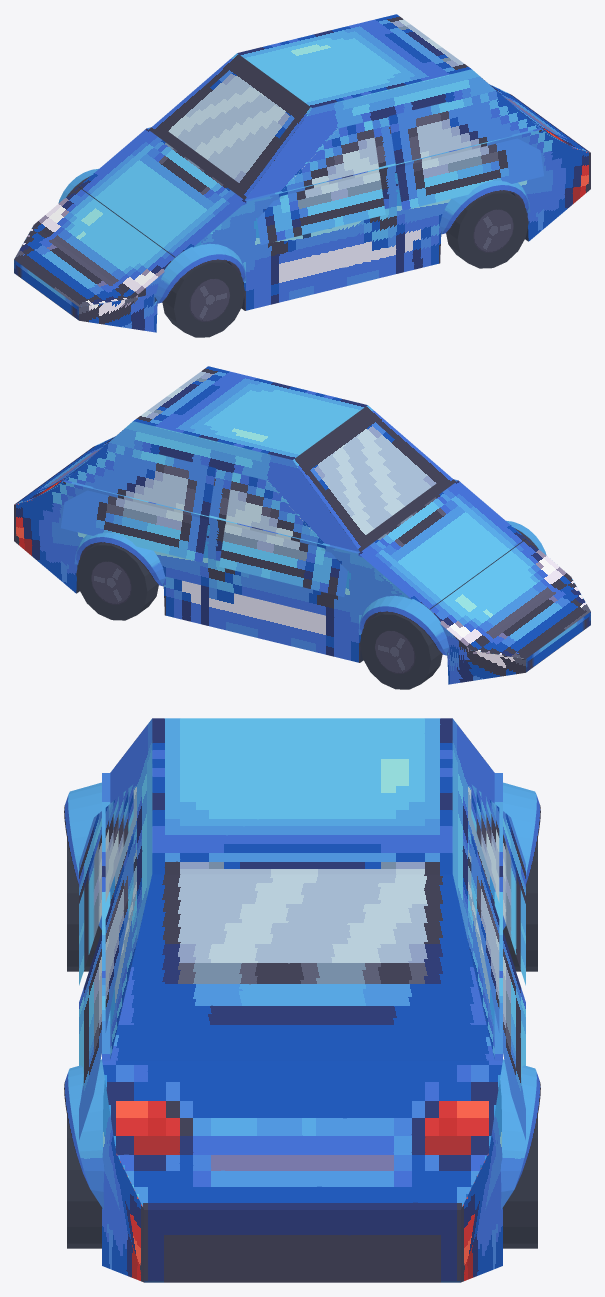
The model's file is compact-1-v7.glb.
3 renders of one model, top to bottom at view 1: azimuth 30°, elevation 25°; view 2: azimuth 150°, elevation 25°; view 3: azimuth 270°, elevation 25°, orthographic. The views are drawn at different scales.
Visible parts, largest first — view 1: Body · left, Hood, Windshield, Roof, Window and frame · left · rear, Cabin · left, Window and frame · left · front, Tire · -17 · -1, Tire · 17 · -1, Raised fender · left · -17, Raised fender · left · 17, Hub · 17 · -1 (+4 smaller); view 2: Body · right, Hood, Windshield, Roof, Window and frame · right · rear, Cabin · right, Window and frame · right · front, Tire · -17 · 1, Tire · 17 · 1, Raised fender · right · -17, Raised fender · right · 17, Hub · 17 · 1 (+4 smaller); view 3: Rear windshield, Rear hatch, Roof, Rear fascia, Cabin · left, Cabin · right, Window and frame · left · rear, Window and frame · right · rear, Body · left, Body · right, Window and frame · left · front, Window and frame · right · front (+9 smaller).
Part boxes in pixels (left/top/right/bottom): Body · left: left=79, top=129, right=590, bottom=332; Hood: left=14, top=128, right=246, bottom=306; Windshield: left=149, top=53, right=311, bottom=199; Roof: left=237, top=14, right=471, bottom=107; Window and frame · left · rear: left=389, top=102, right=543, bottom=210; Cabin · left: left=245, top=69, right=539, bottom=199; Window and frame · left · front: left=257, top=120, right=385, bottom=244; Tire · -17 · -1: left=162, top=260, right=244, bottom=337; Tire · 17 · -1: left=446, top=191, right=528, bottom=268; Raised fender · left · -17: left=153, top=243, right=246, bottom=304; Raised fender · left · 17: left=439, top=180, right=530, bottom=234; Hub · 17 · -1: left=473, top=209, right=513, bottom=252; Body · right: left=14, top=481, right=525, bottom=684; Hood: left=358, top=480, right=590, bottom=658; Windshield: left=293, top=405, right=455, bottom=551; Roof: left=133, top=366, right=367, bottom=459; Window and frame · right · rear: left=61, top=454, right=215, bottom=562; Cabin · right: left=65, top=421, right=359, bottom=551; Window and frame · right · front: left=219, top=472, right=347, bottom=596; Tire · -17 · 1: left=360, top=612, right=442, bottom=689; Tire · 17 · 1: left=76, top=543, right=158, bottom=620; Raised fender · right · -17: left=358, top=595, right=449, bottom=655; Raised fender · right · 17: left=74, top=532, right=165, bottom=586; Hub · 17 · 1: left=91, top=561, right=131, bottom=604; Rear windshield: left=110, top=874, right=494, bottom=1060; Rear hatch: left=102, top=1060, right=502, bottom=1209; Roof: left=152, top=718, right=452, bottom=874; Rear fascia: left=144, top=1210, right=460, bottom=1282; Cabin · left: left=110, top=718, right=152, bottom=1058; Cabin · right: left=452, top=718, right=494, bottom=1058; Window and frame · left · rear: left=79, top=833, right=133, bottom=1139; Window and frame · right · rear: left=471, top=833, right=525, bottom=1139; Body · left: left=102, top=1061, right=144, bottom=1282; Body · right: left=460, top=1061, right=502, bottom=1282; Window and frame · left · front: left=79, top=784, right=133, bottom=985; Window and frame · right · front: left=471, top=784, right=525, bottom=985.
Size of the model in its own units: 58.2 by 20.2 by 23.8.
1 material, 1 textured.
